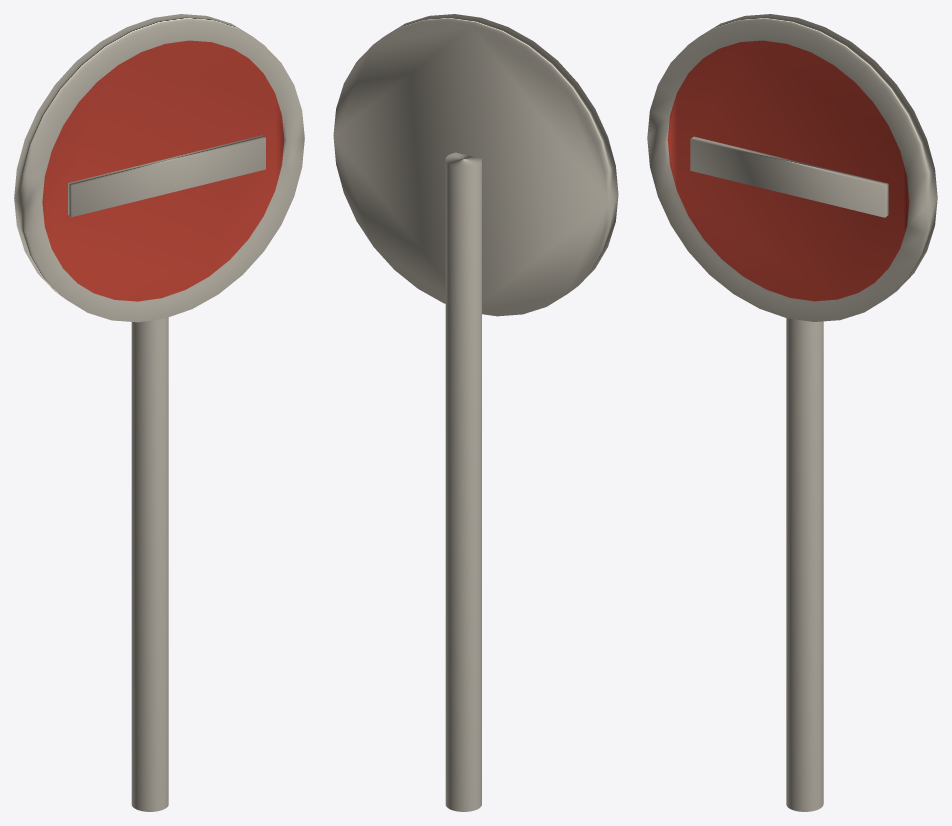
Rendered from 024_一方通行.glb.
3 views of the same model, side by side, from view 1: azimuth 30°, elevation 25°; view 2: azimuth 150°, elevation 25°; view 3: azimuth 330°, elevation 25° (orthographic).
Visible parts, largest first — view 1: 円柱, 円柱_1; view 2: 円柱; view 3: 円柱, 円柱_1.
Boxes of the visible parts, x1=… form: 円柱: x1=14, y1=14, x2=304, y2=811; 円柱_1: x1=42, y1=40, x2=284, y2=301; 円柱: x1=333, y1=14, x2=618, y2=811; 円柱: x1=647, y1=14, x2=937, y2=811; 円柱_1: x1=667, y1=40, x2=909, y2=301.
Size of the model in its own units: 0.9816 by 2.65 by 0.1678.
